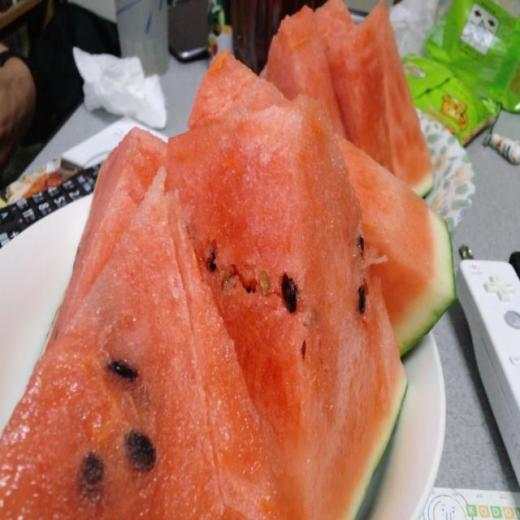Cherry: (0, 0, 458, 519)
